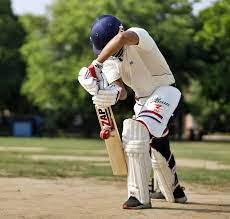bottom left: (110, 168, 121, 179)
bottom right: (124, 169, 131, 178)
top left: (91, 104, 102, 110)
